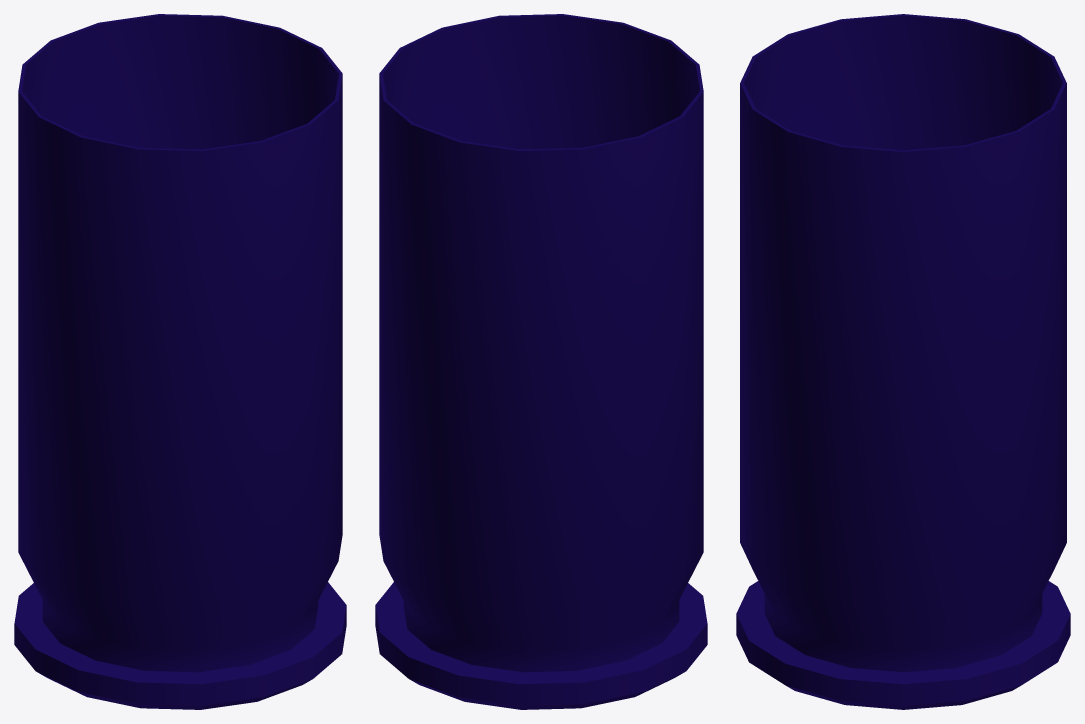
Rendered from Shell (LP).FBX.
3 renders of one model, left to right at view 1: azimuth 30°, elevation 25°; view 2: azimuth 150°, elevation 25°; view 3: azimuth 270°, elevation 25°, orthographic.
Visible parts, largest first — view 1: Shell; view 2: Shell; view 3: Shell.
Boxes of the visible parts, <box> form: Shell: <box>14,14,346,709</box>; Shell: <box>375,14,707,709</box>; Shell: <box>736,14,1070,709</box>.
Size of the model in its own units: 1.18 by 2.2 by 1.18.
